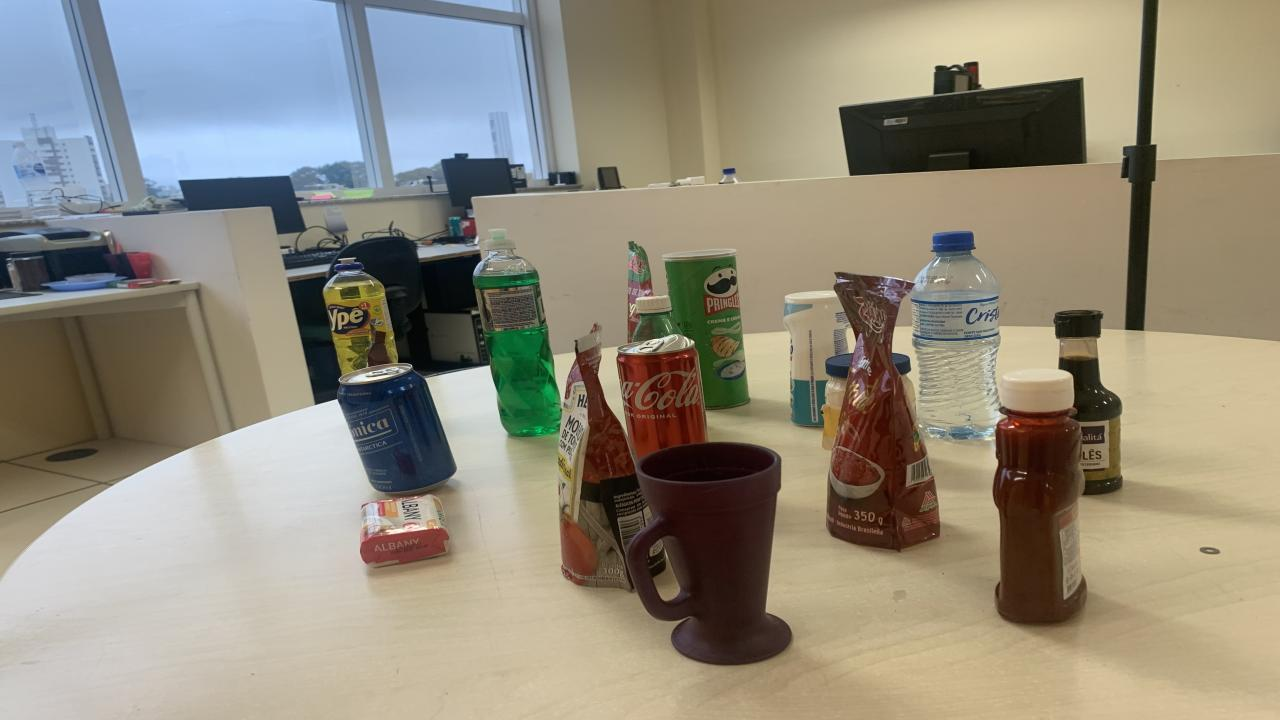Cleaner-Cleanup_Items: (782, 291, 850, 428)
Coke-Drinks: (618, 334, 708, 459)
Detergent-Cleanup_Items: (472, 229, 562, 437), (322, 257, 398, 375)
Guarana-Drinks: (632, 294, 682, 341)
Ketchup-Pantry_Items: (992, 369, 1088, 622)
Pringles-Snacks: (662, 248, 750, 409)
Soap-Cleanup_Items: (360, 495, 450, 566)
Tomato_Sauce-Pantry_Items: (828, 272, 940, 549), (558, 328, 650, 591), (1055, 311, 1122, 495), (628, 242, 652, 341)
Tonic-Drinks: (338, 364, 455, 495)
Water_Bottle-Drinks: (910, 232, 1000, 441)
